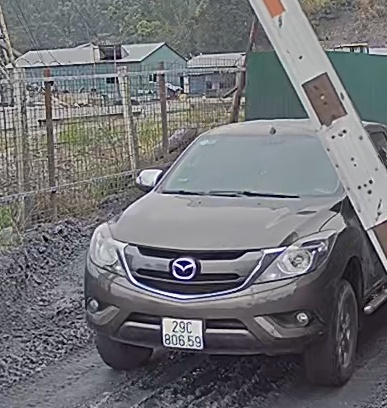vehicle plate: (159, 311, 206, 351)
